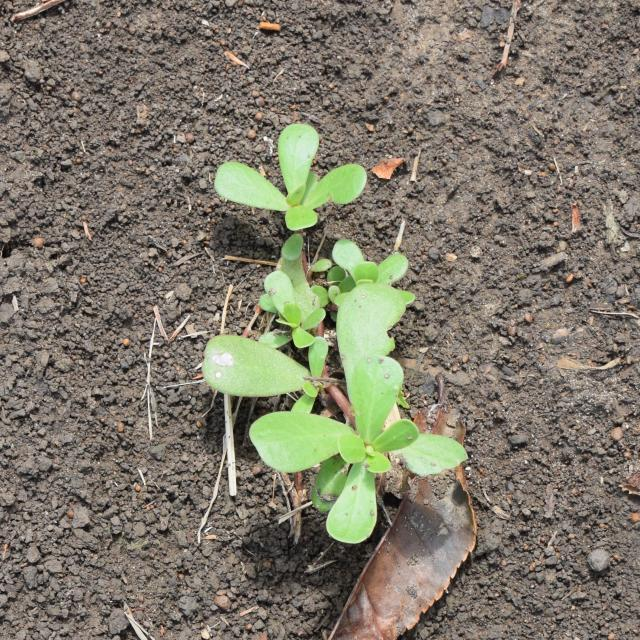Purslane: (201, 124, 468, 544)
